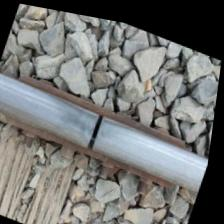person: (68, 92, 131, 159)
